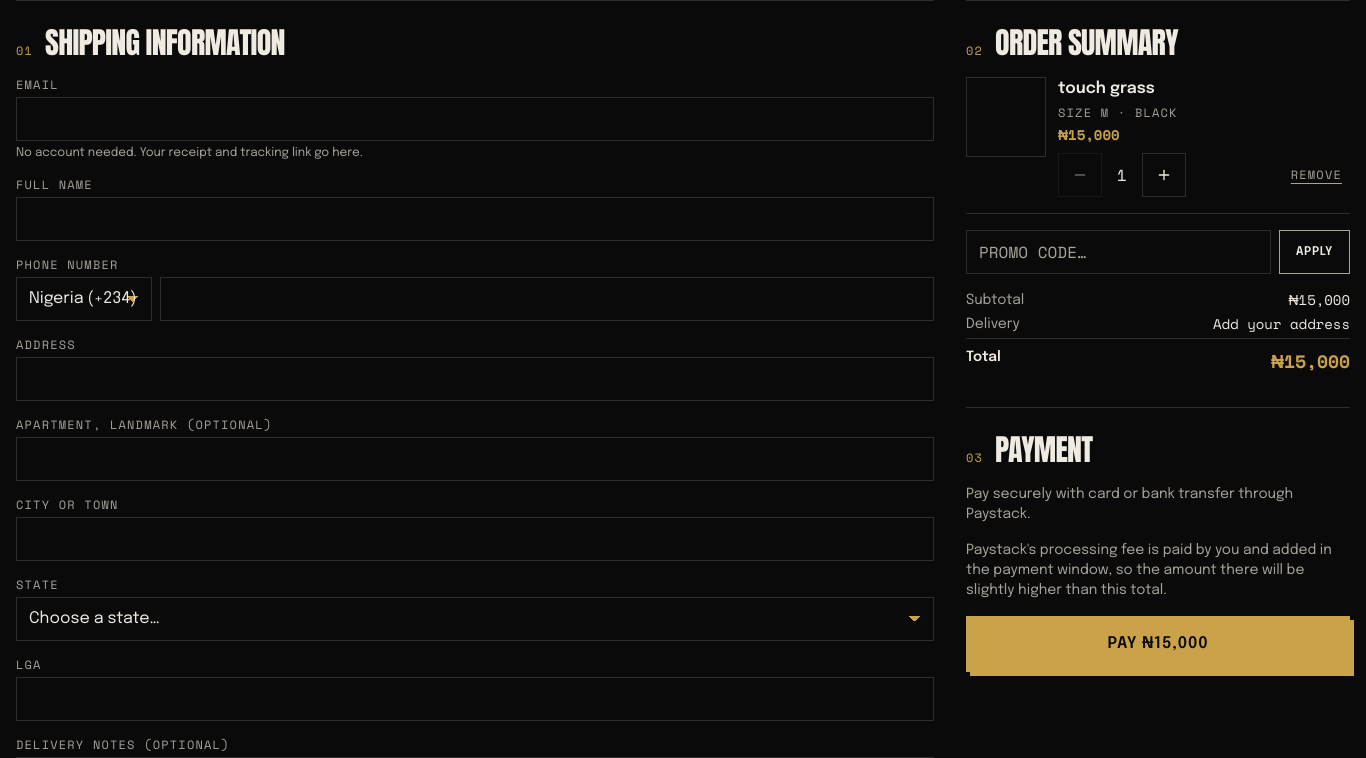
Test case: CheckoutPage › prices delivery once the address has a state and Lagos LGA
Expected: the text "Add your address" is shown, [1213, 313, 1350, 334]
Select "Lagos" in the dropdown labelled "State" at (475, 619), box [16, 597, 934, 641]
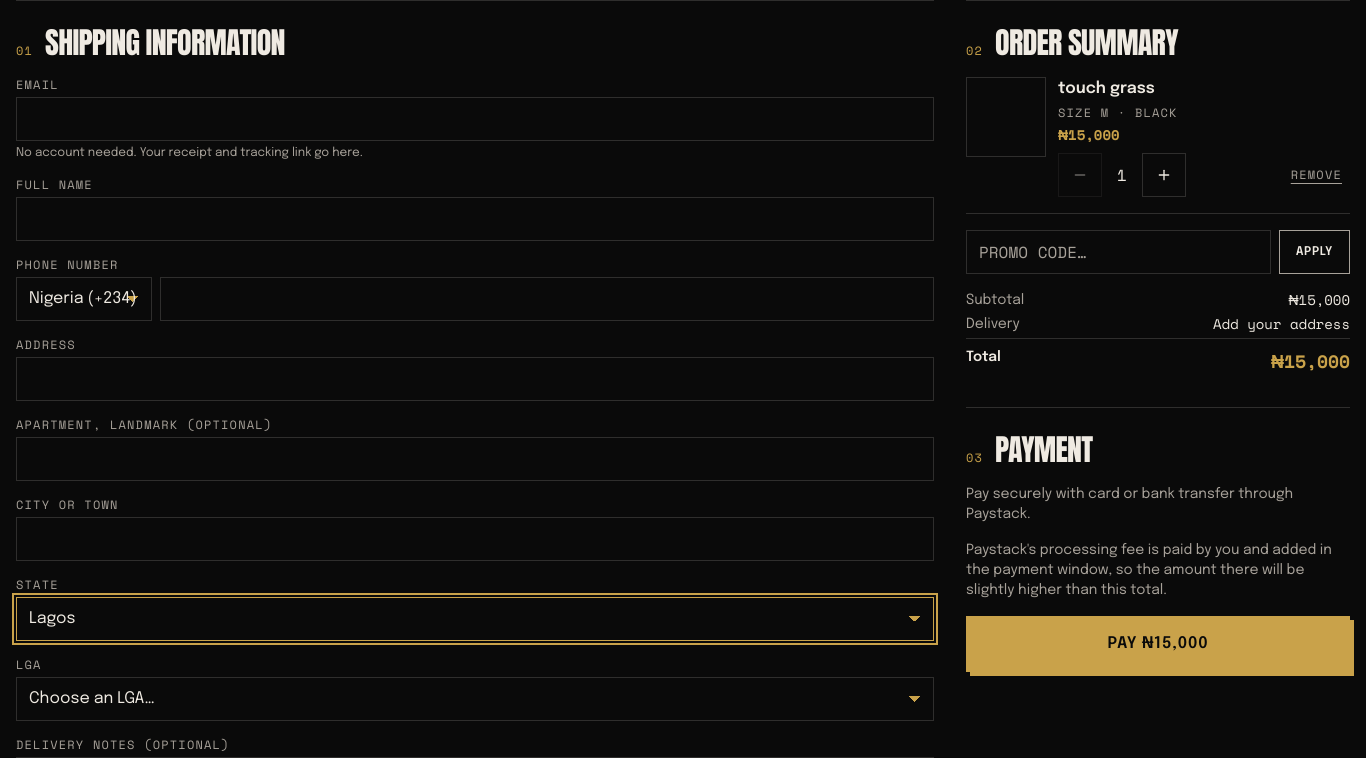
Select "Eti-Osa" in the dropdown labelled "LGA" at (475, 699), box [16, 677, 934, 721]
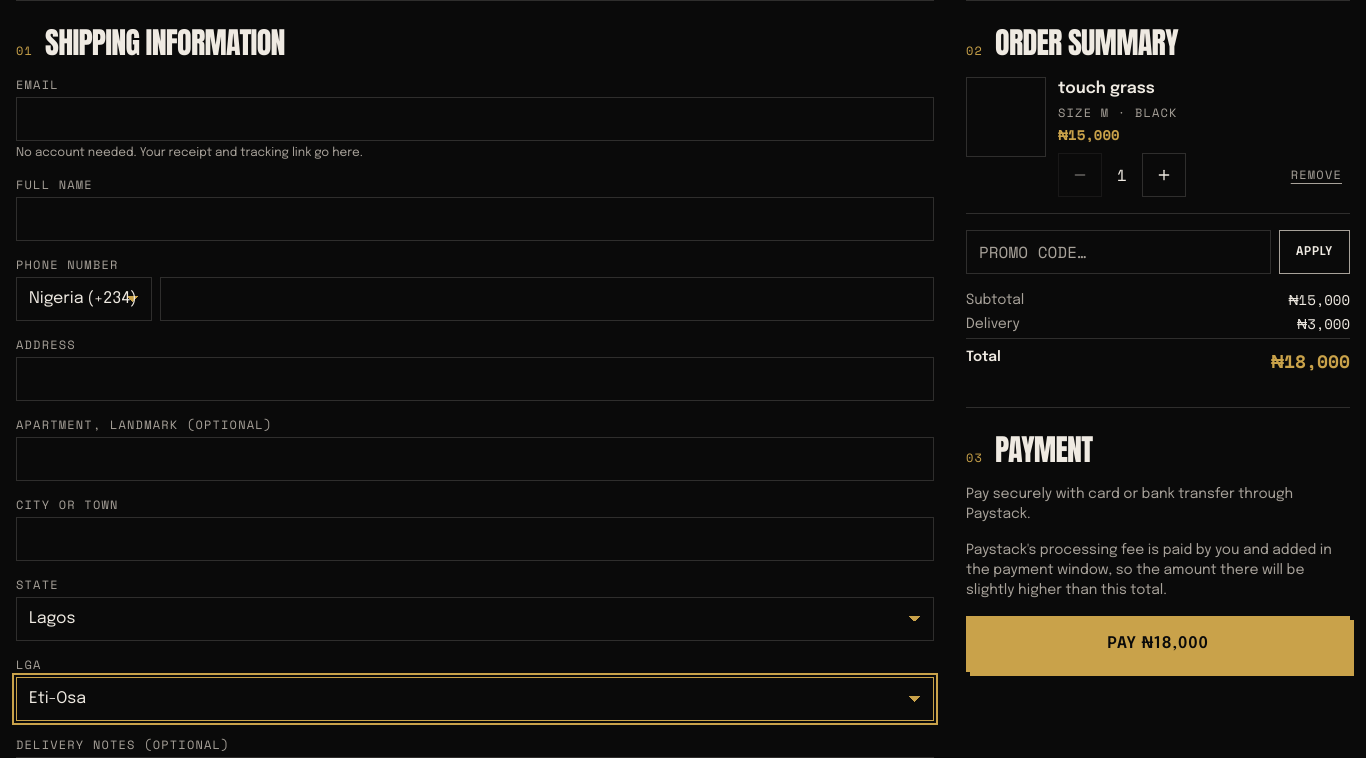
Now the button "Pay ₦18,000" is shown, box [966, 616, 1350, 672]
